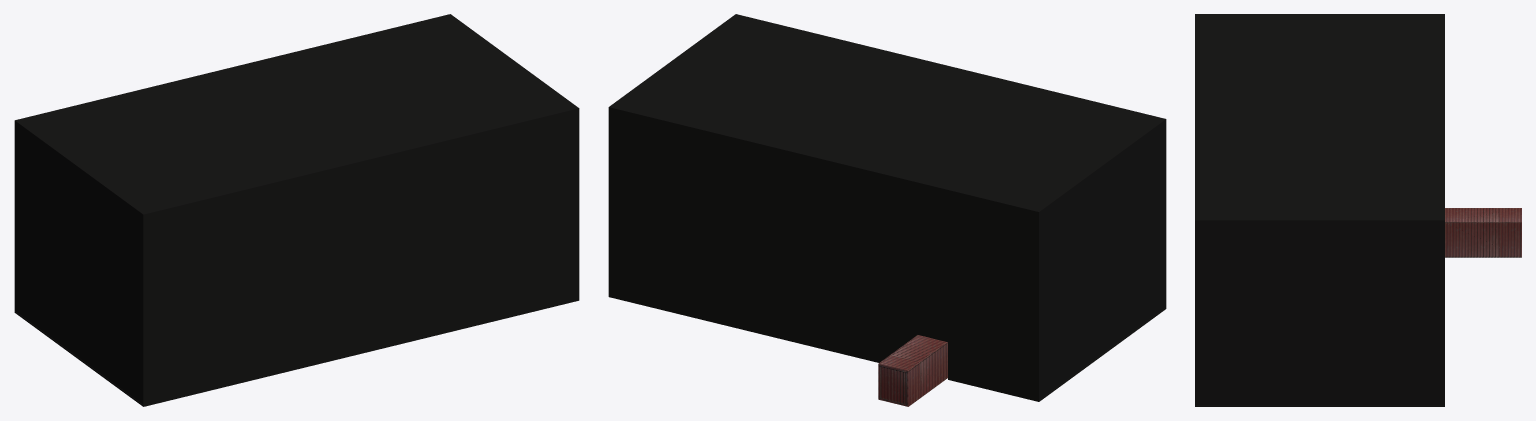
The model's file is first_room.gltf.
3 renders of one model, left to right at view 1: azimuth 30°, elevation 25°; view 2: azimuth 150°, elevation 25°; view 3: azimuth 270°, elevation 25°, orthographic. The views are drawn at different scales.
Visible parts, largest first — view 1: Plane.002, Plane.005, Plane.004; view 2: Plane.003, Plane.005, Plane.004, Plane.006, Plane.007, left_side, celing, back; view 3: Plane.005, Plane.001, right_side, celing.
Part boxes in pixels (left/top/right/bottom): Plane.002: left=143, top=108, right=579, bottom=406; Plane.005: left=15, top=14, right=578, bottom=214; Plane.004: left=14, top=120, right=143, bottom=406; Plane.003: left=608, top=107, right=916, bottom=362; Plane.005: left=609, top=14, right=1165, bottom=211; Plane.004: left=1039, top=119, right=1166, bottom=401; Plane.006: left=948, top=190, right=1038, bottom=401; Plane.007: left=917, top=182, right=947, bottom=341; left_side: left=907, top=342, right=947, bottom=406; celing: left=878, top=335, right=946, bottom=371; back: left=878, top=365, right=907, bottom=405; Plane.005: left=1195, top=14, right=1444, bottom=220; Plane.001: left=1195, top=220, right=1444, bottom=406; right_side: left=1445, top=222, right=1521, bottom=257; celing: left=1445, top=208, right=1521, bottom=222.
Bounding box in the file's own units: 44.15 × 18.58 × 29.5.
